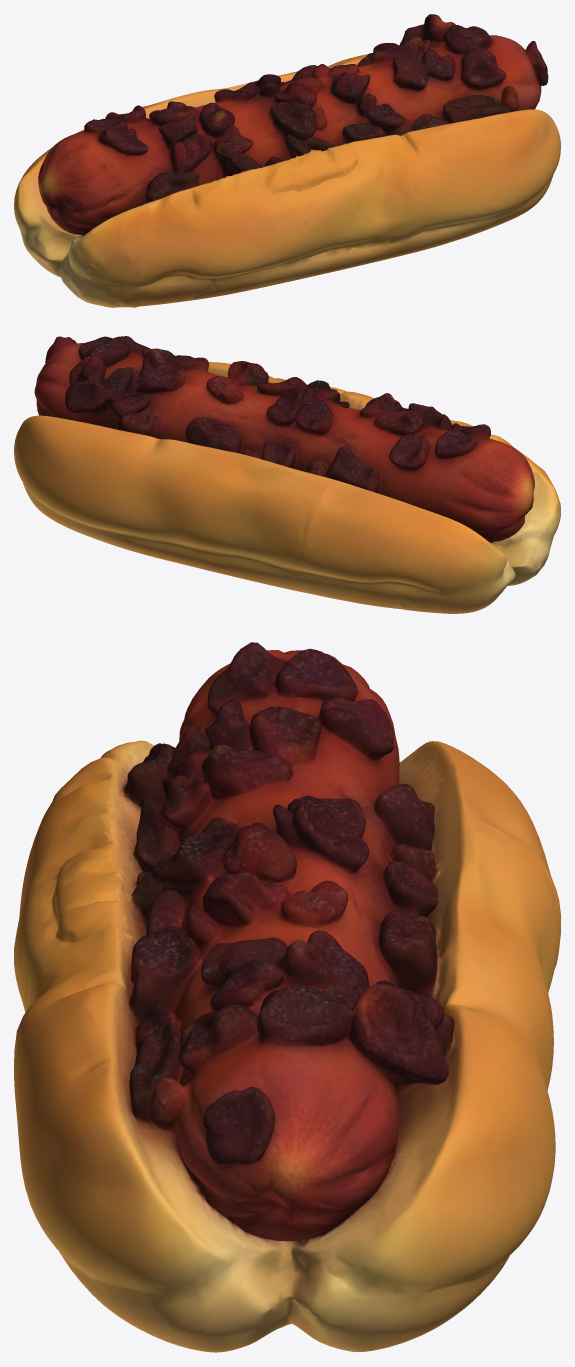
File: cerveza.glb
3 views of the same model, one above another, from view 1: azimuth 30°, elevation 25°; view 2: azimuth 150°, elevation 25°; view 3: azimuth 270°, elevation 25° (orthographic). The views are drawn at different scales.
Visible parts, largest first — view 1: tripo_node_cb7607b6-3dab-4e54-b153-5217cf210c2b; view 2: tripo_node_cb7607b6-3dab-4e54-b153-5217cf210c2b; view 3: tripo_node_cb7607b6-3dab-4e54-b153-5217cf210c2b.
Boxes of the visible parts, bbox=[...] form: tripo_node_cb7607b6-3dab-4e54-b153-5217cf210c2b: bbox=[14, 14, 560, 307]; tripo_node_cb7607b6-3dab-4e54-b153-5217cf210c2b: bbox=[14, 336, 560, 613]; tripo_node_cb7607b6-3dab-4e54-b153-5217cf210c2b: bbox=[14, 642, 560, 1352].
Size of the model in its own units: 0.9786 by 0.3174 by 0.4712.
1 material, 1 textured.
